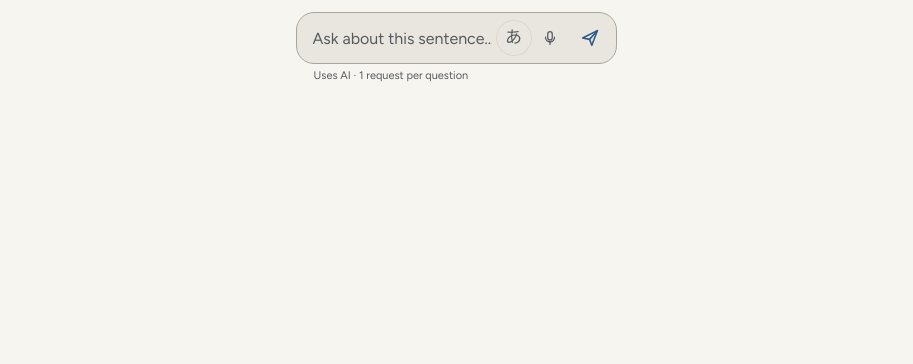
Test case: rate limit in the explain views (A14) › follow-up chip: countdown during the wait
Type "What does 間に do?" into the field labelled "Ask about this sentence" at (402, 38), box [312,13,492,63]
Then press Enter
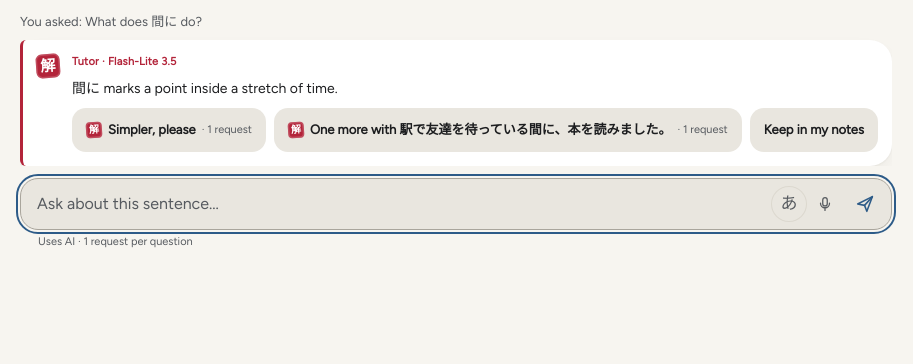
Click the button with aria-label "Simpler, please, " at (169, 130), box [72,108,266,152]
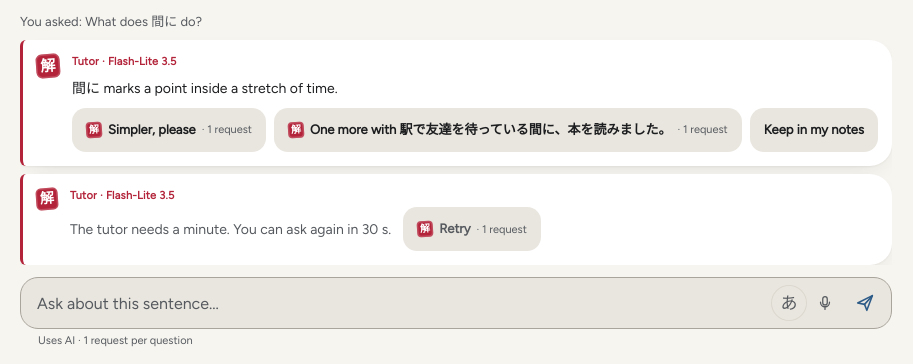
Expected: the element that starts with "Tutor · Flash-Lite 3.5" shows "The tutor needs a minute. You can ask again in 30 s.", [20,174,892,265]
Expected: the button with aria-label "Retry, " is disabled, [403,207,541,251]
